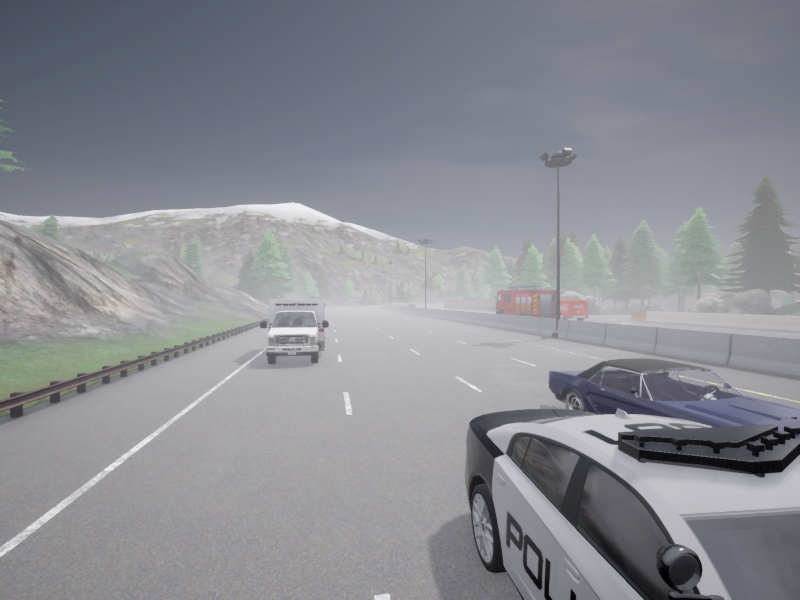vehicle: (465, 408, 799, 599), (548, 358, 799, 437), (260, 300, 328, 363), (495, 285, 556, 318), (560, 300, 588, 320), (406, 304, 415, 306), (398, 303, 404, 305)
